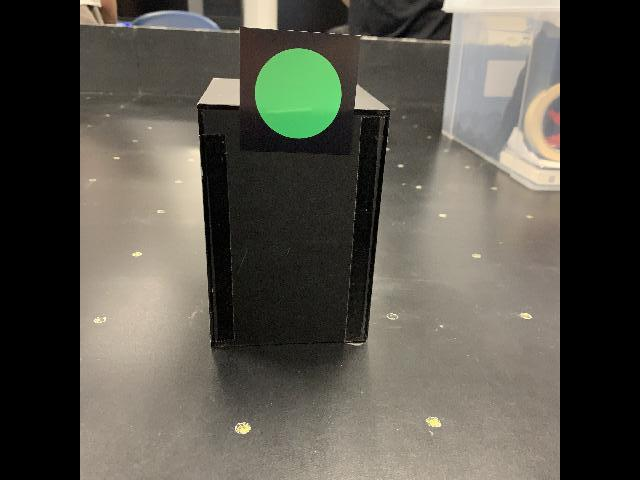go: (238, 25, 362, 155)
